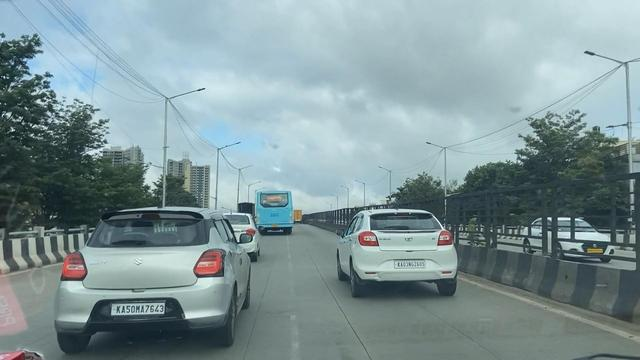HMV: (255, 178, 302, 241)
LMV: (51, 182, 252, 354), (337, 205, 471, 303)
